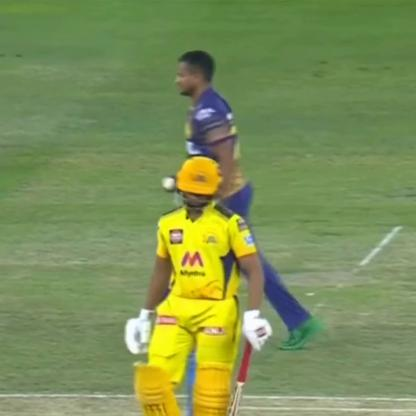ball: (156, 173, 179, 194)
